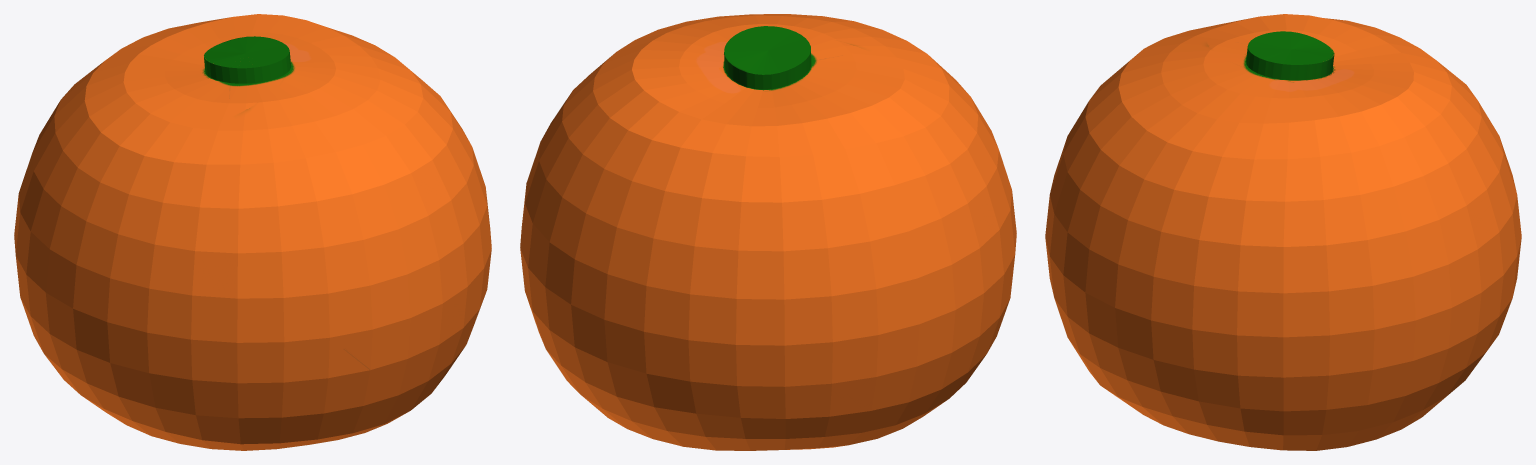
Rendered from mandarinka 1.fbx.
3 views of the same model, side by side, from view 1: azimuth 30°, elevation 25°; view 2: azimuth 150°, elevation 25°; view 3: azimuth 270°, elevation 25° (orthographic). The views are drawn at different scales.
Visible parts, largest first — view 1: Sphere; view 2: Sphere; view 3: Sphere.
Part boxes in pixels (<box>): Sphere: <box>14,14,491,450</box>; Sphere: <box>520,14,1016,450</box>; Sphere: <box>1045,14,1521,450</box>.
Bounding box in the file's own units: 207 × 166 × 207.
Materials: 1 (1 with a texture image).
